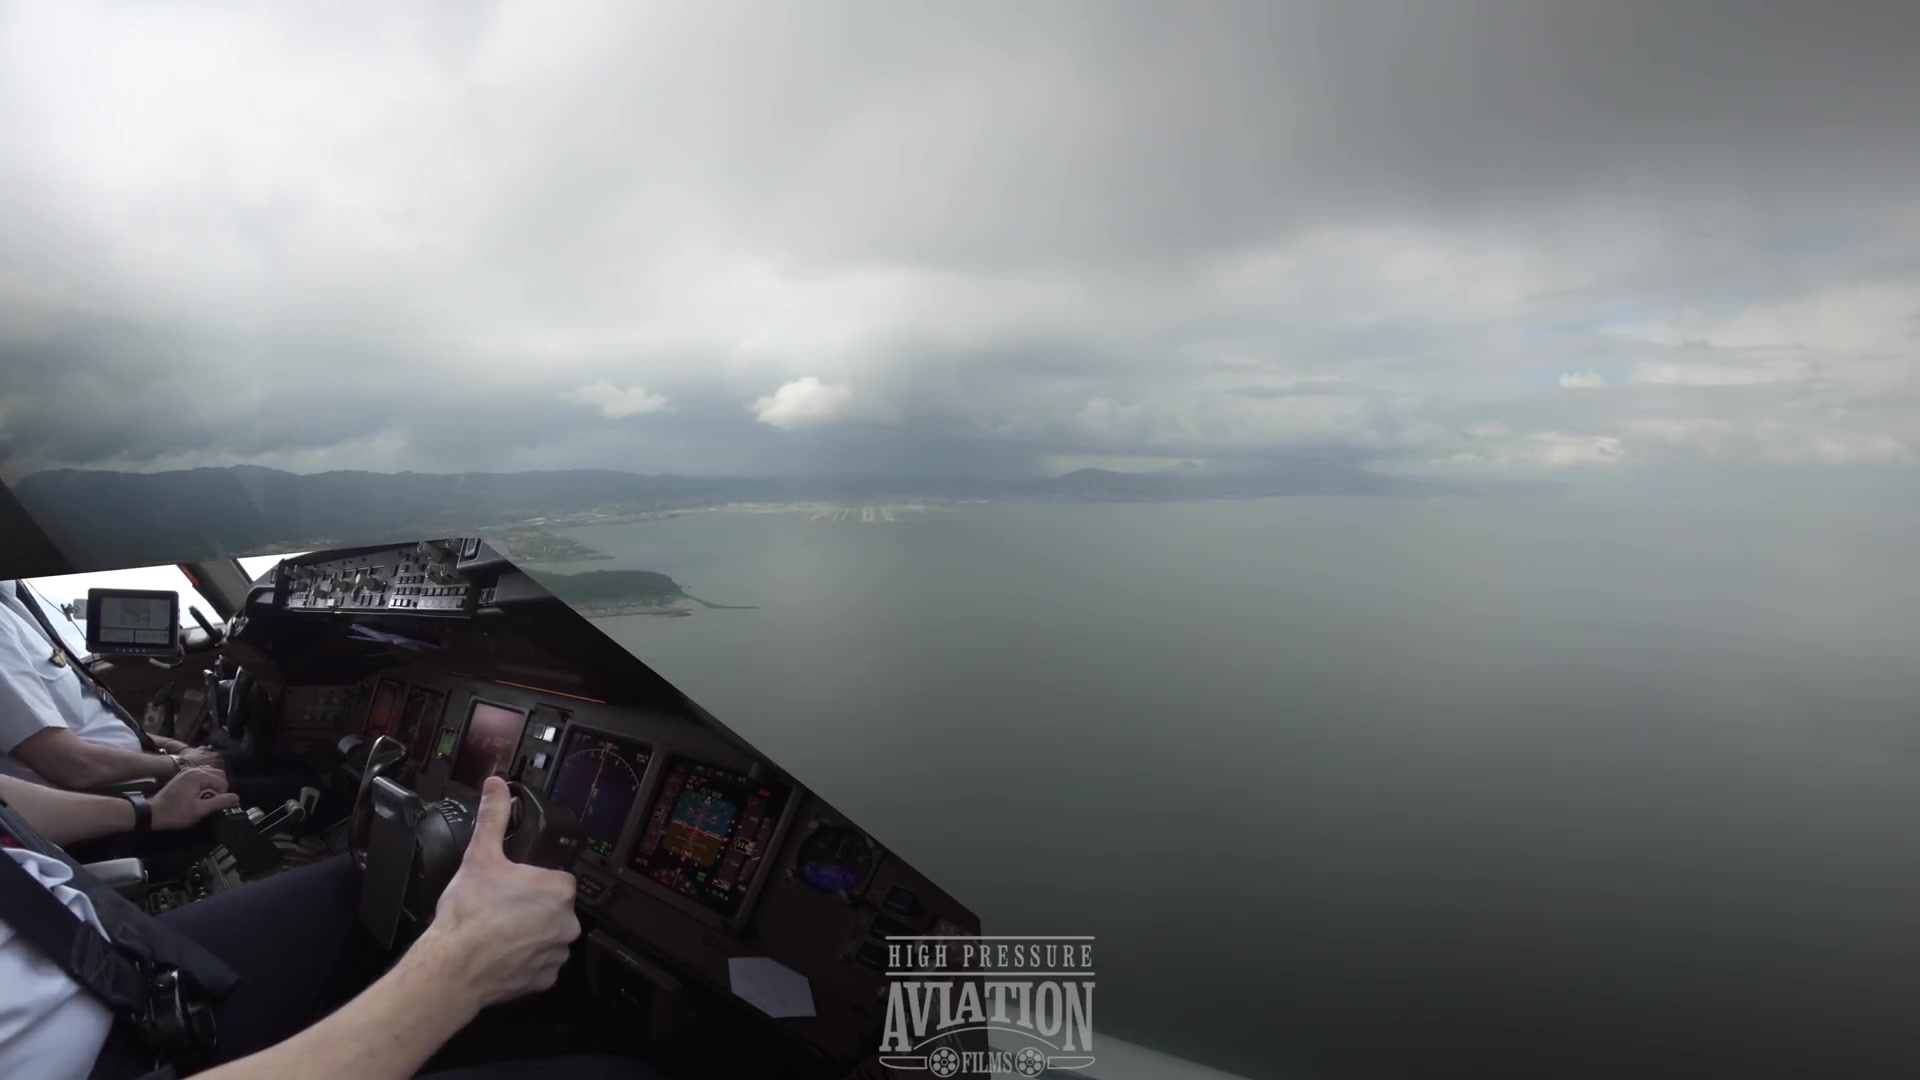runway: (882, 501, 898, 521), (862, 502, 873, 524)
